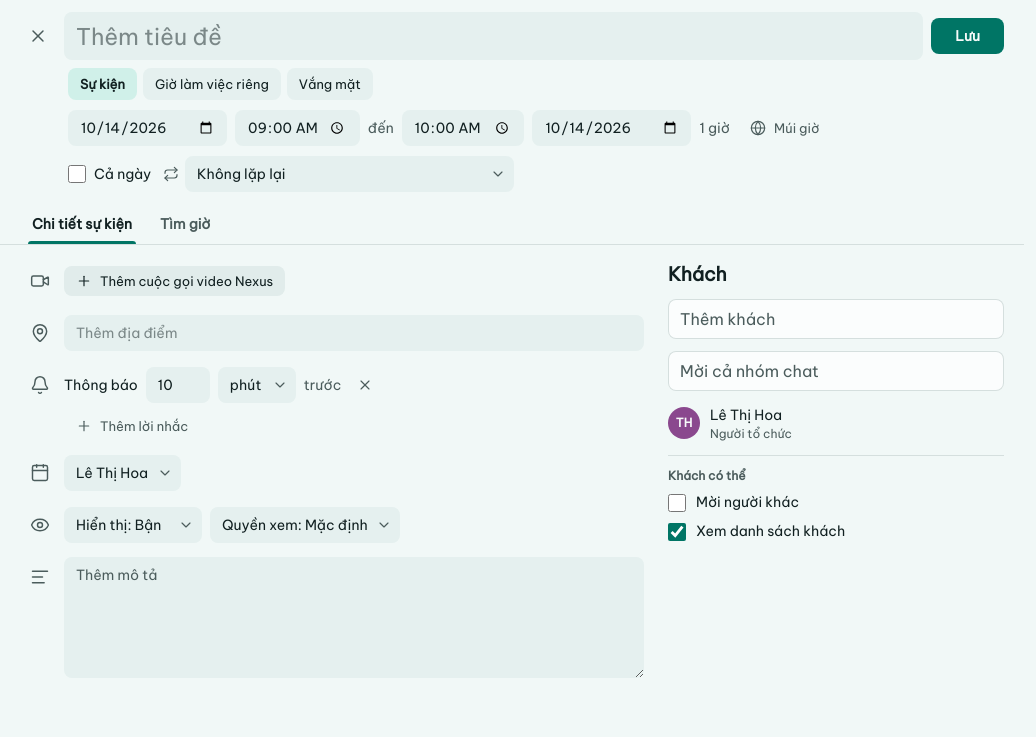
Scenario: Tìm giờ › jumps the band to a suggested time
Type "Yến" into the dropdown labelled "Thêm khách" at (836, 319), box [680,305,992,333]
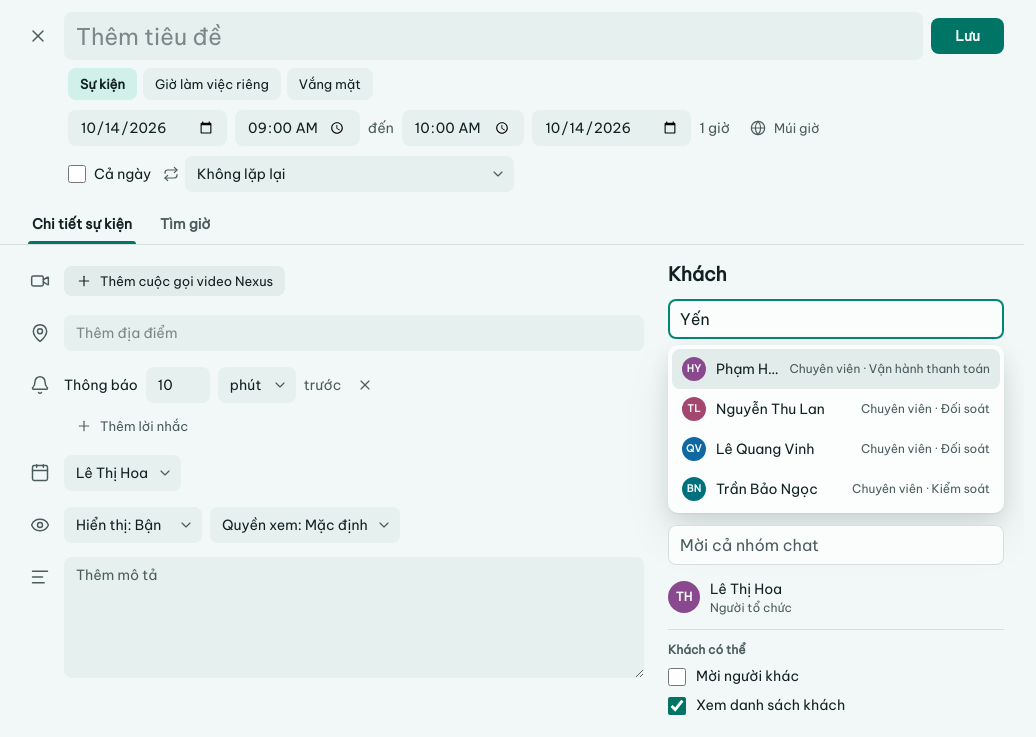
Click the option "HY Phạm Hải Yến Chuyên viên · Vận hành thanh toán" at (836, 369), box [672,349,1000,389]
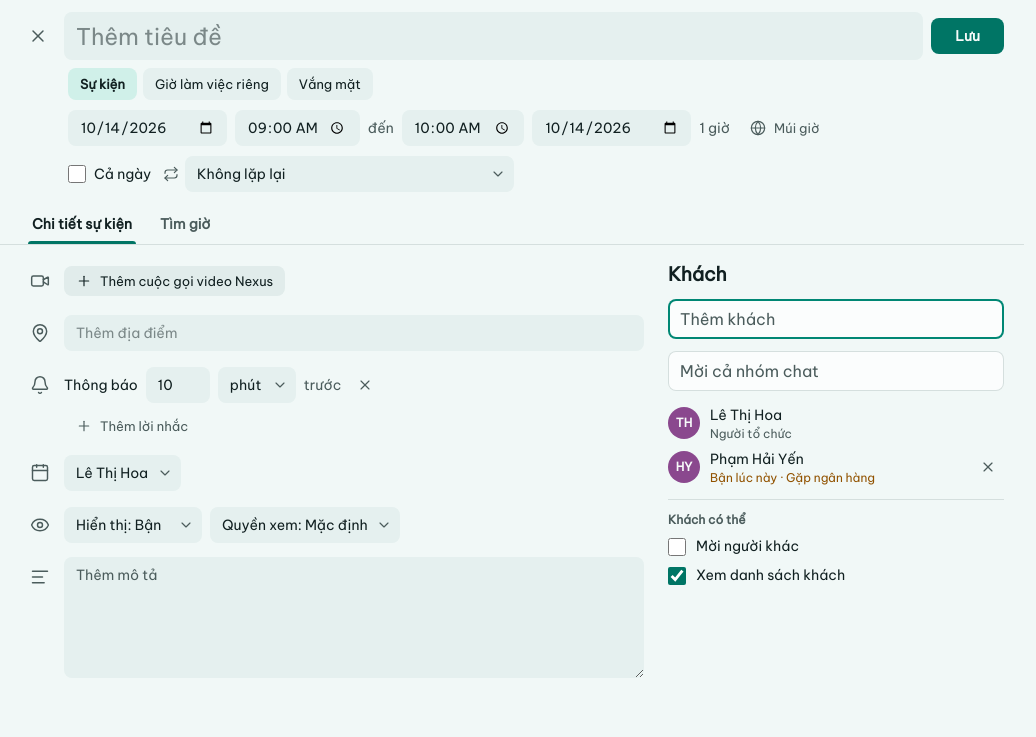
Click the tab "Tìm giờ" at (185, 224), box [148,204,222,244]
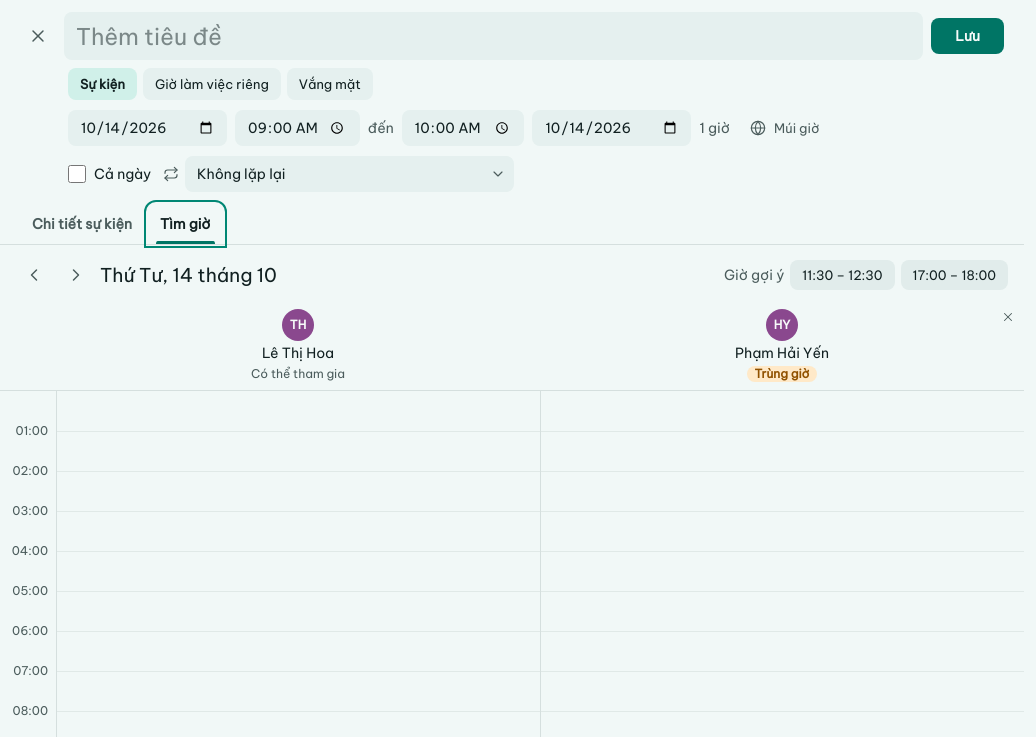
Click the button "11:30 – 12:30" at (842, 275), box [790,260,895,290]
(page scrolled)
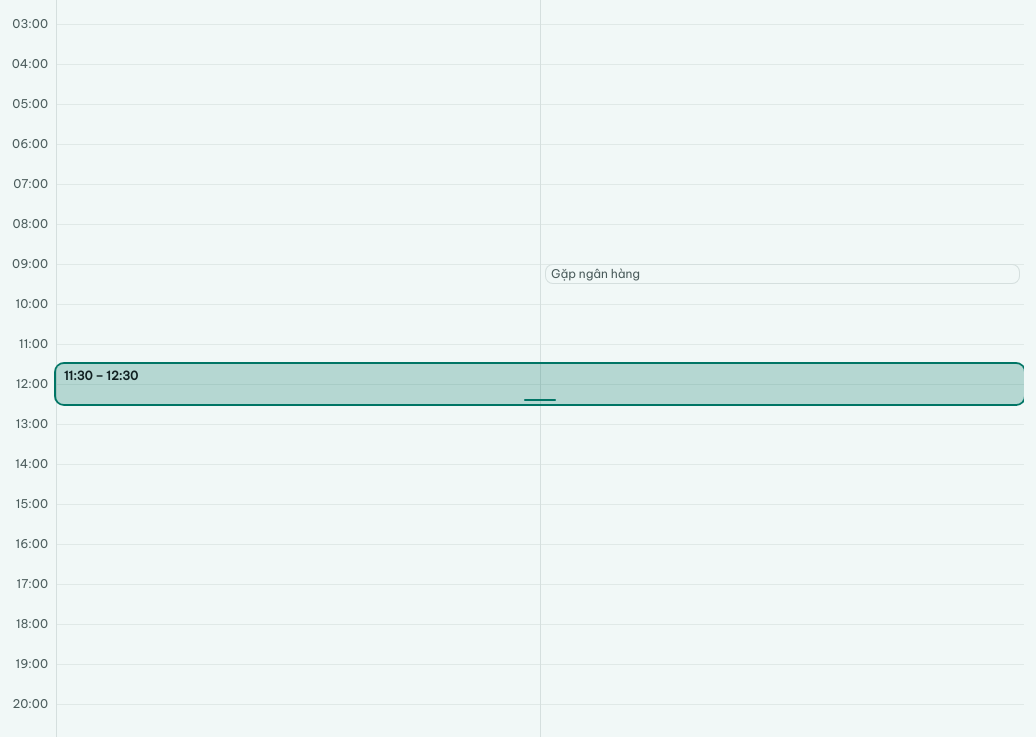
Expected: the slider named "Khoảng giờ đã chọn, 11:30 đến 12:30" is shown, [56,364,1024,404]
